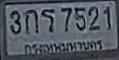1: (103, 6, 110, 29)
2: (88, 6, 99, 30)
3: (10, 10, 20, 34)
5: (74, 6, 85, 30)
7: (60, 7, 71, 31)
A01: (23, 8, 38, 34)
A35: (41, 8, 54, 32)
BKK: (23, 38, 104, 52)
